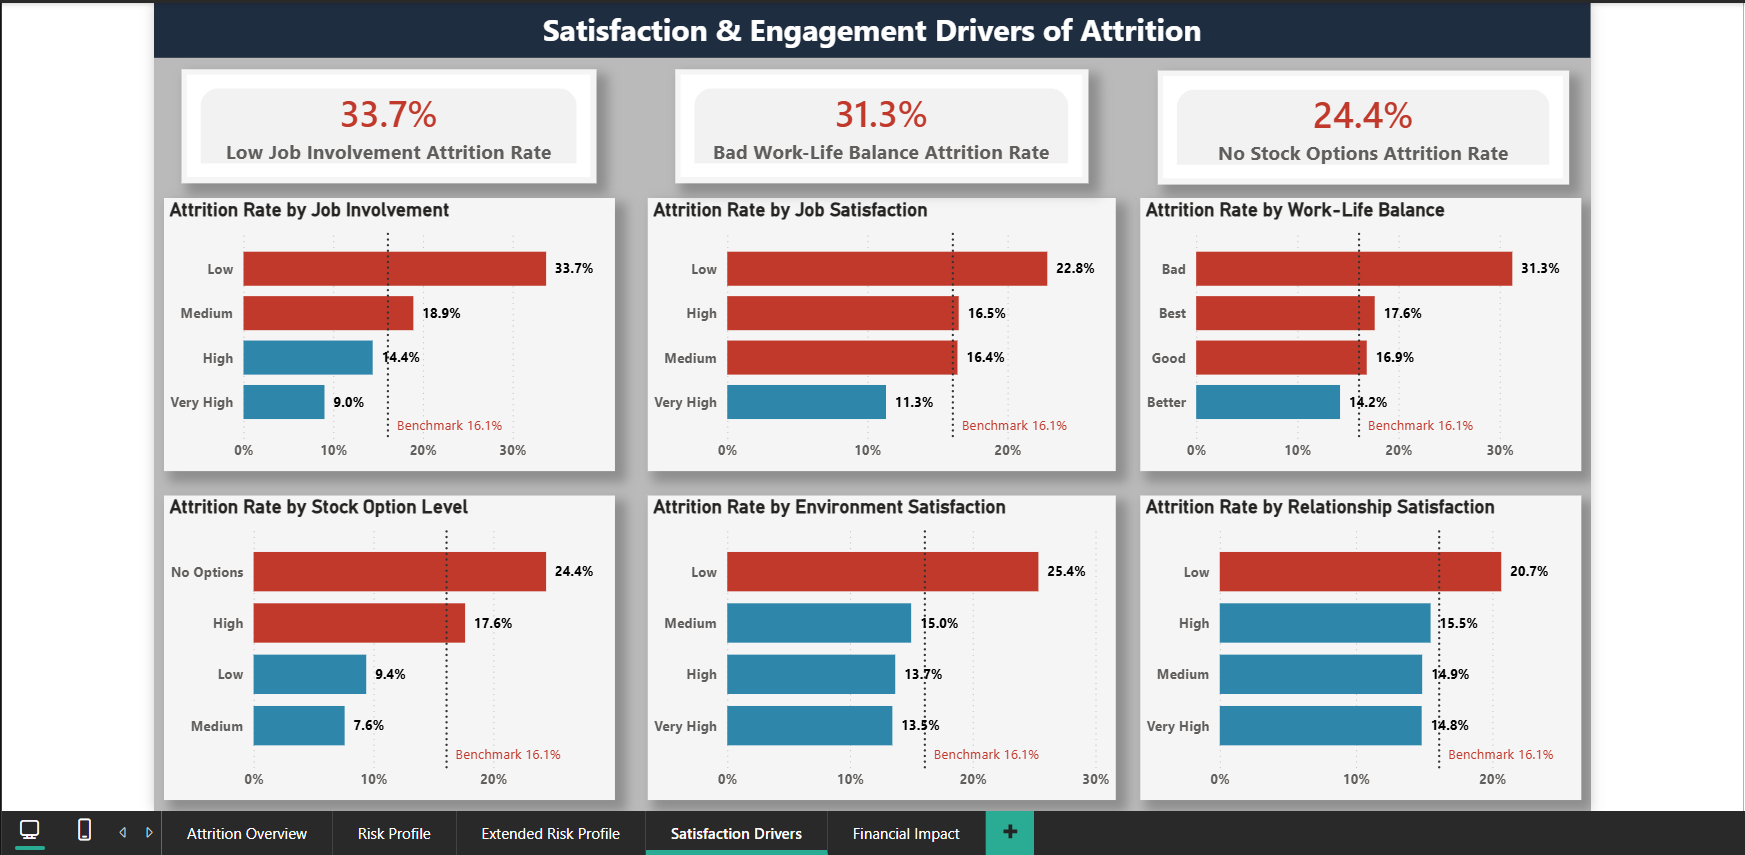

This screenshot's page, from the dashboard's own definition file:
{"tool":"powerbi","page":{"name":"Satisfaction Drivers","canvas":[1280,720],"ordinal":3},"visuals":[{"type":"barChart","title":"Attrition Rate by Job Satisfaction","fields":{"Y":["HR Measures.Attrition Rate %"],"Category":["Cleaned_Data.JobSatisfaction_Label"]},"box":[440,173.7,416.9,243.2],"z":0},{"type":"cardVisual","fields":{"Data":["HR Measures.Low Involvement Attrition Rate"]},"box":[24.4,59.2,369.3,101.6],"z":1000},{"type":"cardVisual","fields":{"Data":["HR Measures.Bad WLB Attrition Rate"]},"box":[464.5,59.2,368,101.6],"z":2000},{"type":"cardVisual","fields":{"Data":["HR Measures.No Stock Option Attrition Rate"]},"box":[894.3,60.5,366.7,101.6],"z":3000},{"type":"textbox","box":[0,0,1279,49],"z":4000},{"type":"barChart","title":"Attrition Rate by Environment Satisfaction","fields":{"Y":["HR Measures.Attrition Rate %"],"Category":["Cleaned_Data.EnvironmentSatisfaction_Label"]},"box":[440,438.8,416.9,271.5],"z":5000},{"type":"barChart","title":"Attrition Rate by Job Involvement","fields":{"Y":["HR Measures.Attrition Rate %"],"Category":["Cleaned_Data.JobInvolvement_Label"]},"box":[9,173.7,401.4,243.2],"z":6000},{"type":"barChart","title":"Attrition Rate by Stock Option Level","fields":{"Y":["HR Measures.Attrition Rate %"],"Category":["Cleaned_Data.StockOptionLevel_Label"]},"box":[9,438.8,401.4,271.5],"z":7000},{"type":"barChart","title":"Attrition Rate by Relationship Satisfaction","fields":{"Y":["HR Measures.Attrition Rate %"],"Category":["Cleaned_Data.RelationshipSatisfaction_Label"]},"box":[878.8,438.8,392.4,271.5],"z":8000},{"type":"barChart","title":"Attrition Rate by Work-Life Balance","fields":{"Category":["Cleaned_Data.WorkLifeBalance_Label"],"Y":["HR Measures.Attrition Rate %"]},"box":[878.8,173.7,392.4,243.2],"z":9000}]}

Visuals, with their boxes in screenshot pixels (x1, y1, x2, y2):
"Attrition Rate by Job Satisfaction" barChart: locate(642, 196, 1113, 471)
cardVisual - HR Measures.Low Involvement Attrition Rate: locate(173, 67, 590, 181)
cardVisual - HR Measures.Bad WLB Attrition Rate: locate(670, 67, 1085, 181)
cardVisual - HR Measures.No Stock Option Attrition Rate: locate(1155, 68, 1569, 183)
textbox: locate(145, 0, 1589, 55)
"Attrition Rate by Environment Satisfaction" barChart: locate(642, 495, 1113, 802)
"Attrition Rate by Job Involvement" barChart: locate(156, 196, 609, 471)
"Attrition Rate by Stock Option Level" barChart: locate(156, 495, 609, 802)
"Attrition Rate by Relationship Satisfaction" barChart: locate(1137, 495, 1580, 802)
"Attrition Rate by Work-Life Balance" barChart: locate(1137, 196, 1580, 471)
